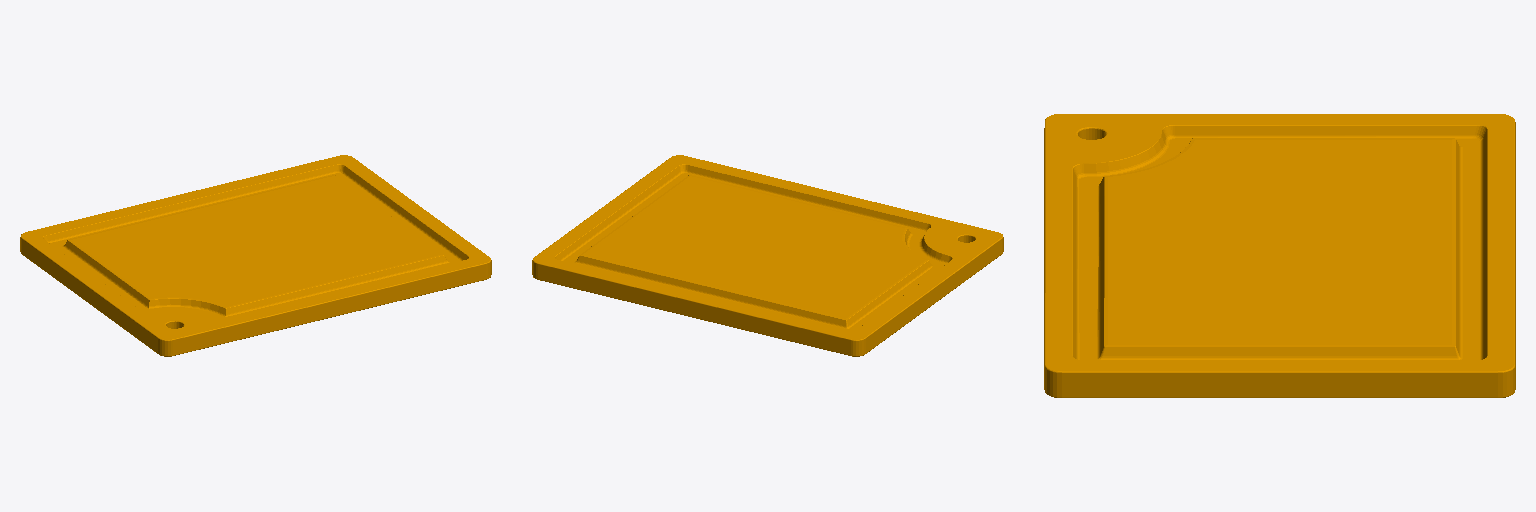
robot.urdf — chopping_board:
<robot name="chopping_board">
    <link name="chopping_board">
        <collision>
            <geometry>
                <mesh filename="chopping_board.stl" />
            </geometry>
        </collision>
        <visual>
            <geometry>
                <mesh filename="chopping_board.stl" />
            </geometry>
        </visual>
    </link>
</robot>

--- Render facts (derived) ---
The picture shows the robot from 3 angles, left to right: view 1: azimuth 30°, elevation 25°; view 2: azimuth 150°, elevation 25°; view 3: azimuth 270°, elevation 25°; orthographic projection.
Robot: chopping_board — 1 links, 0 joints (none); root link chopping_board; default pose: all joints at 0.
Links seen in each view (by area): view 1: chopping_board; view 2: chopping_board; view 3: chopping_board.
Boxes of the visible links, x1=… form: chopping_board: x1=20, y1=155, x2=491, y2=356; chopping_board: x1=532, y1=155, x2=1003, y2=356; chopping_board: x1=1044, y1=114, x2=1515, y2=397.
Size in the robot's own frame: 0.39 by 0.3 by 0.0192 metres.
Meshes: 1 distinct files referenced, 1 mesh visuals loaded (1 binary STL).